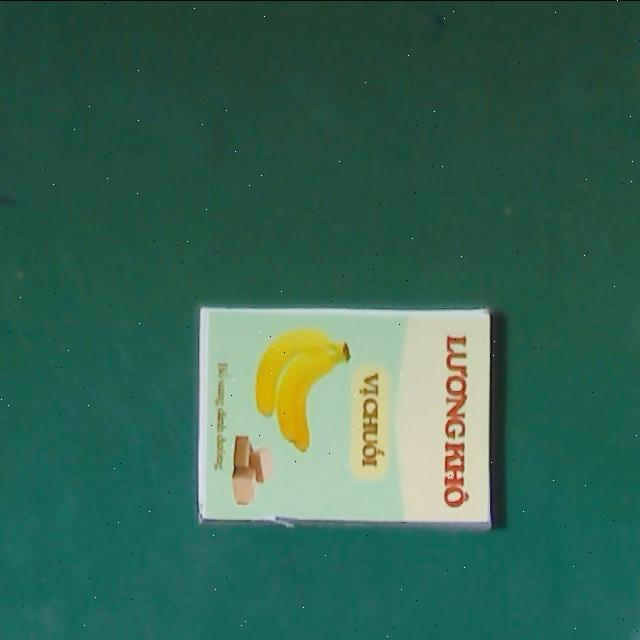chuoi: (199, 306, 492, 526)
